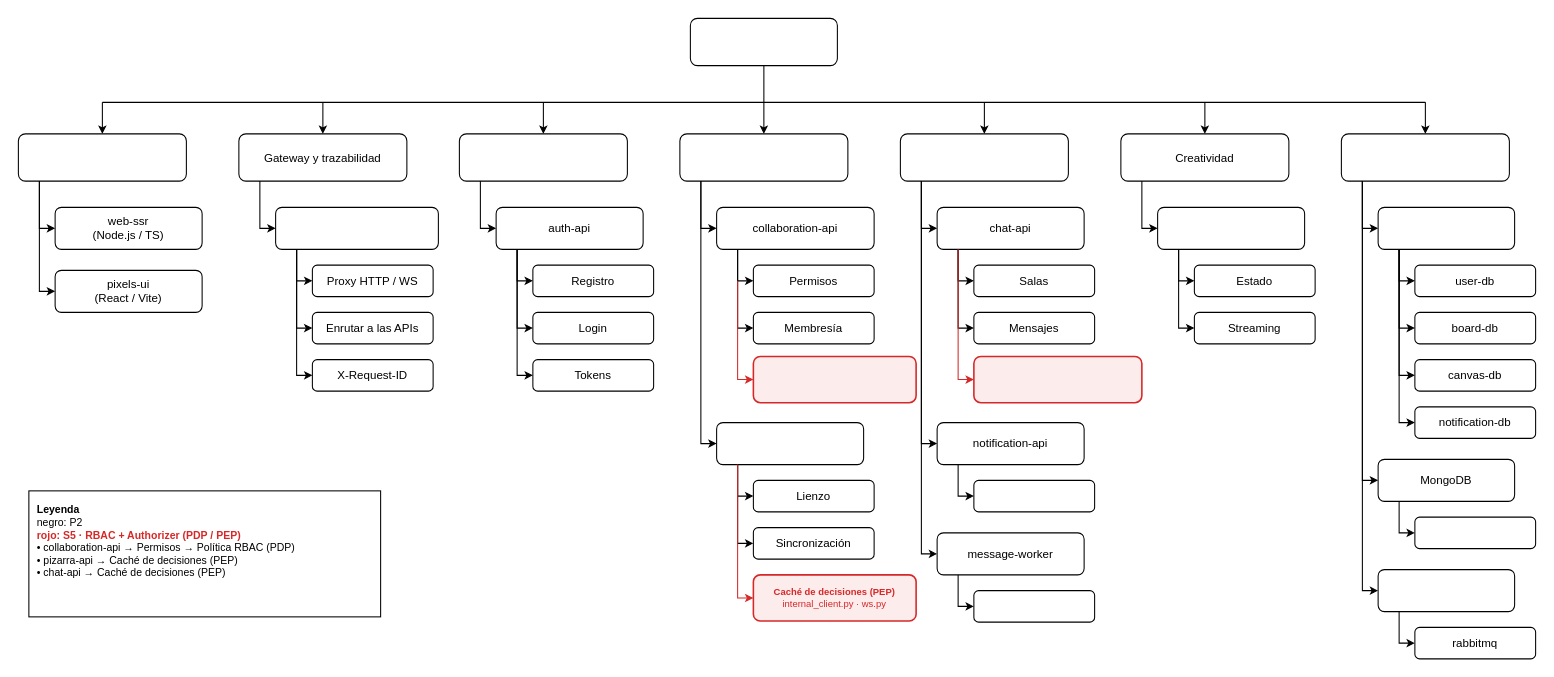
This 1554x677 diagram has some shape labels left out. The centre of each missing label's shape, as x and y in pixels:
Bandeja: [1034,495]
Caché de decisiones (PEP) CollaborationClient · InternalChat: [1057,379]
CollaBoard: [763,41]
Comunicación: [983,157]
gateway (Nginx): [356,227]
Identidad: [542,157]
Infraestructura de datos: [1424,157]
Mensajería: [1446,590]
pixels-api: [1231,227]
pixels-nosqldb: [1475,532]
pizarra-api: [790,443]
Política RBAC (PDP) app/policy.py · /internal/policy: [834,379]
PostgreSQL: [1446,227]
Presentación: [101,157]
Tableros y colaboración: [763,157]
Tareas asíncronas: [1034,606]
